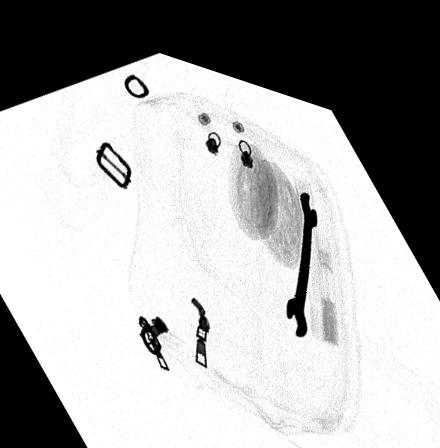Wrench: (283, 169, 317, 317)
